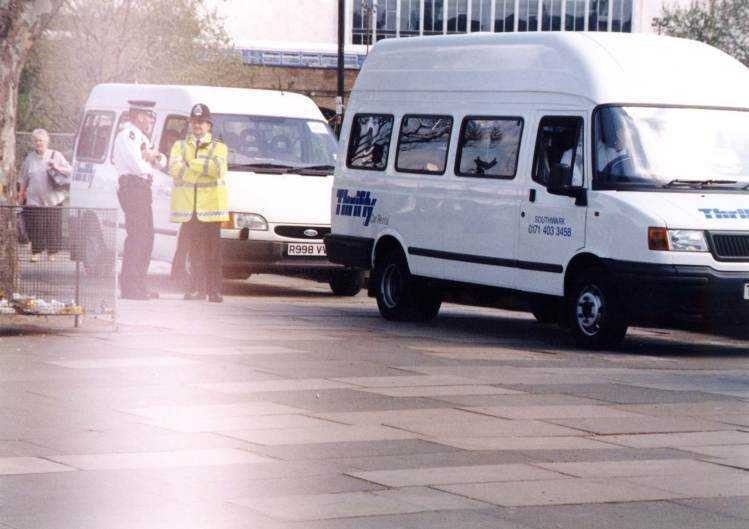Ambulance: (299, 22, 749, 376), (35, 47, 356, 306)
